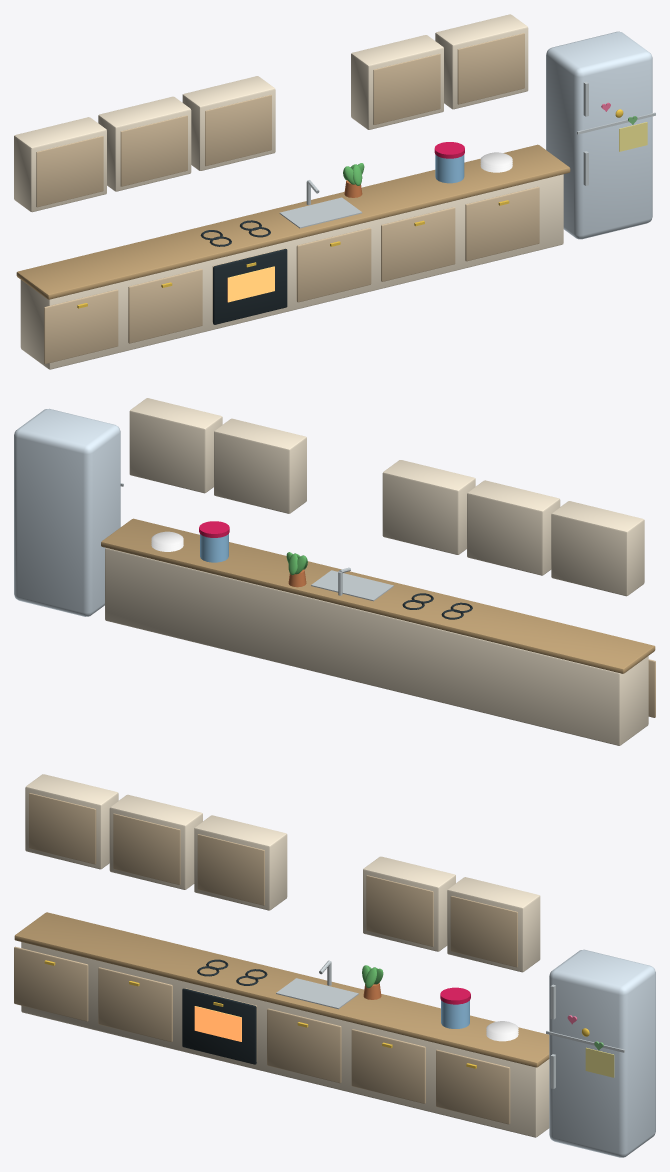
Rendered from dina_kitchen.glb.
3 renders of one model, top to bottom at view 1: azimuth 30°, elevation 25°; view 2: azimuth 150°, elevation 25°; view 3: azimuth 330°, elevation 25°, orthographic.
Parts seen in each view (by area): view 1: Kitchen_mesh; view 2: Kitchen_mesh; view 3: Kitchen_mesh.
Boxes of the visible parts, <box> form: Kitchen_mesh: <box>14,14,655,369</box>; Kitchen_mesh: <box>14,398,655,745</box>; Kitchen_mesh: <box>14,774,655,1157</box>.
Size of the model in its own units: 7.84 by 2.65 by 0.805.
